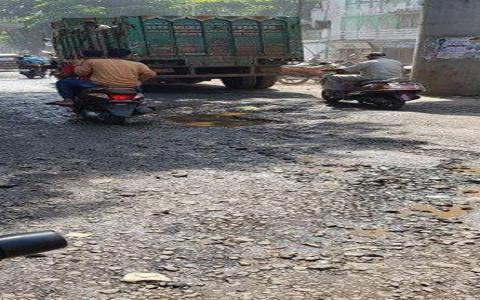patchy roads: (186, 116, 460, 285)
